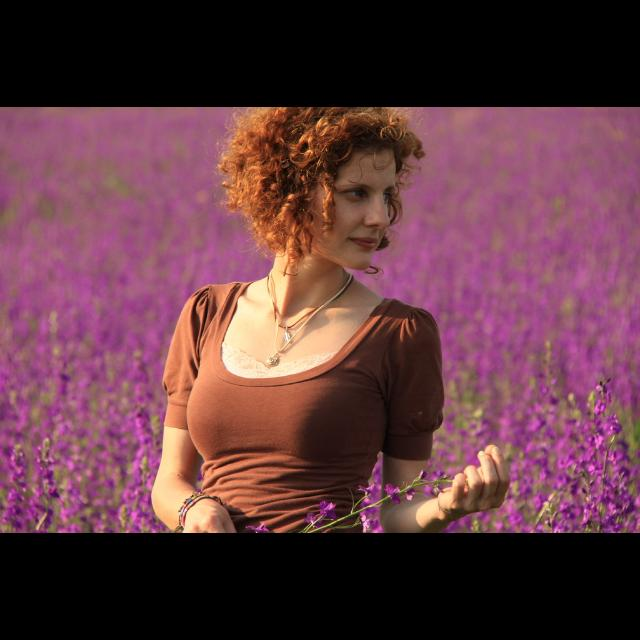Flower: (1, 107, 640, 533), (384, 485, 400, 503)
